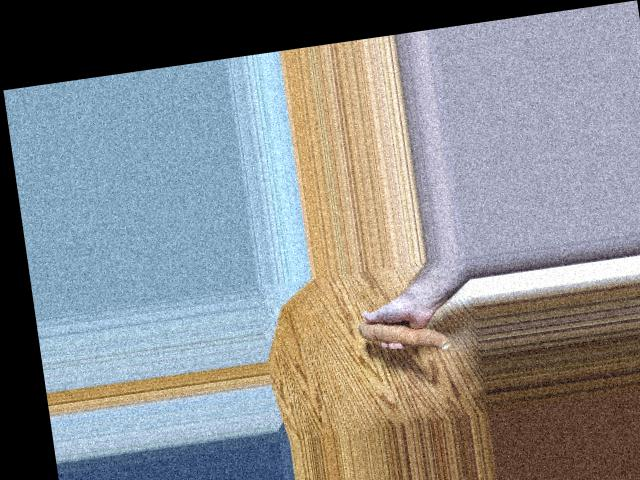sweet_potato: (356, 311, 449, 347)
